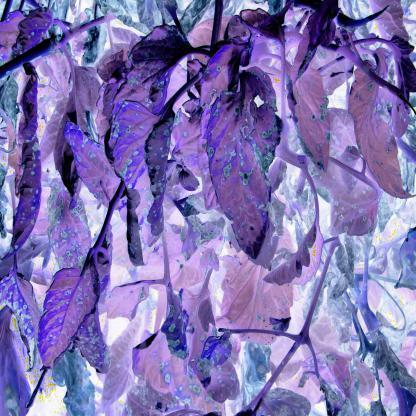Tomato Septoria leaf spot: (207, 62, 286, 266), (96, 15, 193, 142), (113, 97, 177, 241), (30, 260, 102, 376), (282, 58, 340, 180), (64, 120, 126, 223), (130, 295, 188, 400)
